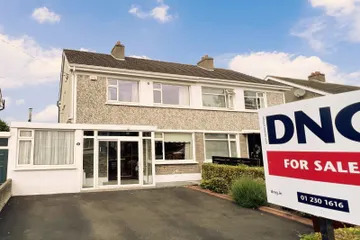property sign: (248, 87, 360, 226)
